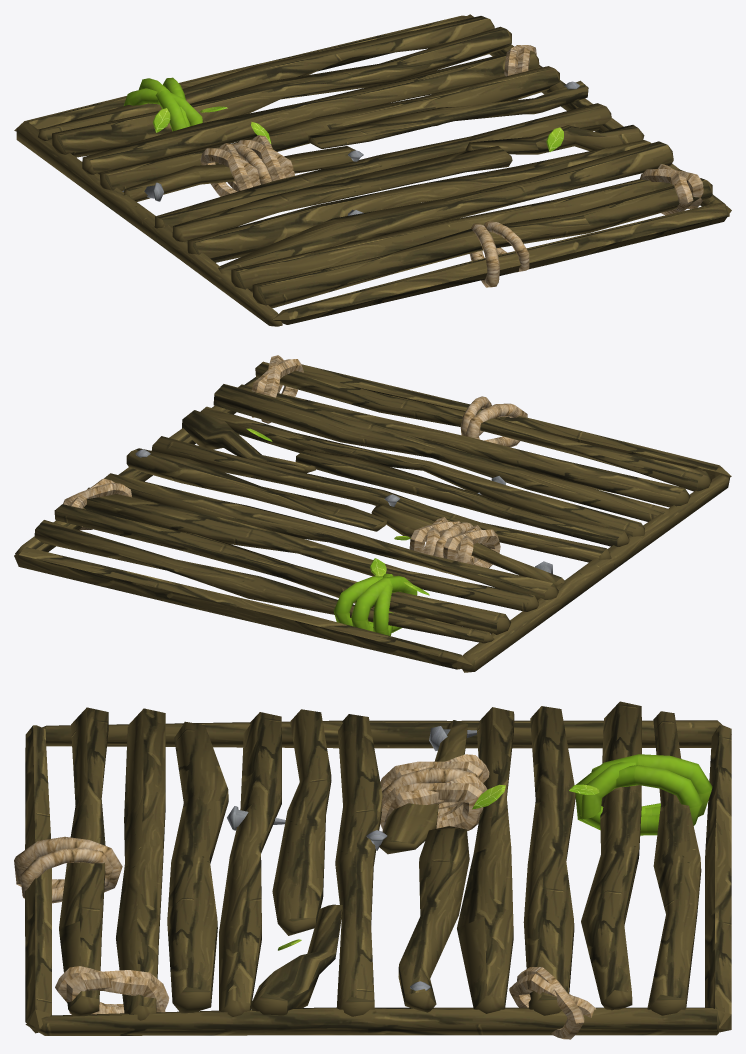
Rendered from Floor1_2_b.FBX.
3 views of the same model, one above another, from view 1: azimuth 30°, elevation 25°; view 2: azimuth 150°, elevation 25°; view 3: azimuth 270°, elevation 25° (orthographic). The views are drawn at different scales.
Visible parts, largest first — view 1: Floor002; view 2: Floor002; view 3: Floor002.
Part boxes in pixels (box(x1,y1,x2,y2)): Floor002: box(14, 14, 731, 326); Floor002: box(14, 355, 731, 672); Floor002: box(14, 701, 731, 1039).
Bounding box in the file's own units: 6.08 × 0.7038 × 6.1.
